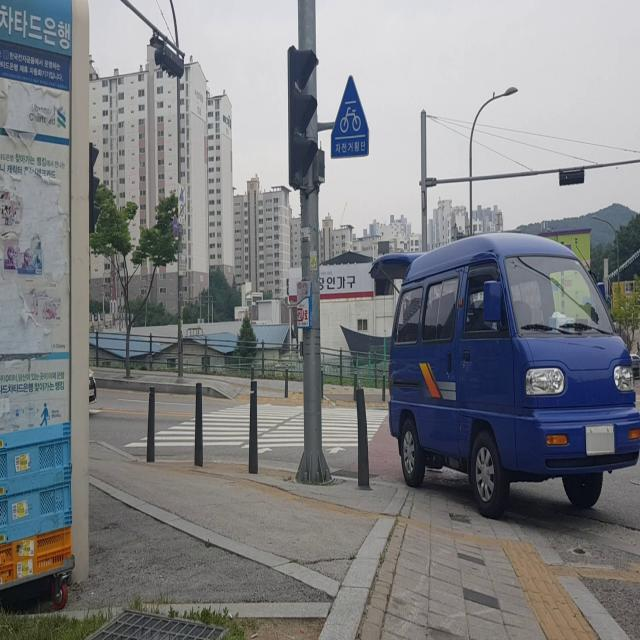횡단보도: (122, 399, 390, 456)
